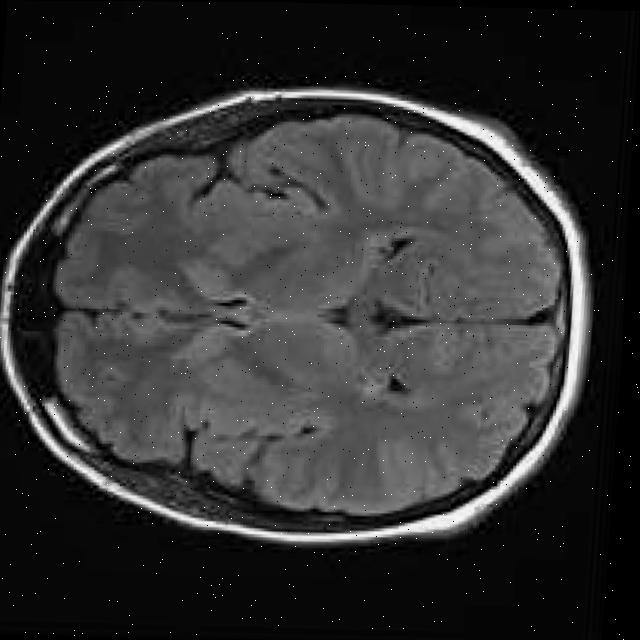NoTumor: (29, 98, 578, 529)
